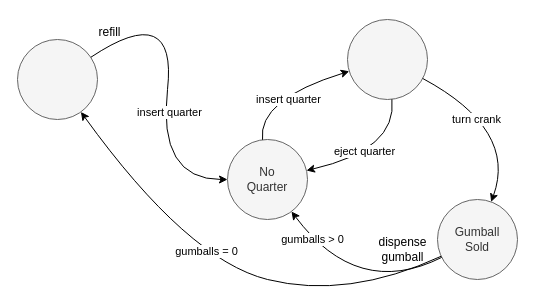
This 535x303 diagram has some shape labels left out. The centre of each missing label's shape, as x and y in pixels:
"Has Quarter" goes at point 387,59.
"Out of Gumballs" goes at point 57,79.
